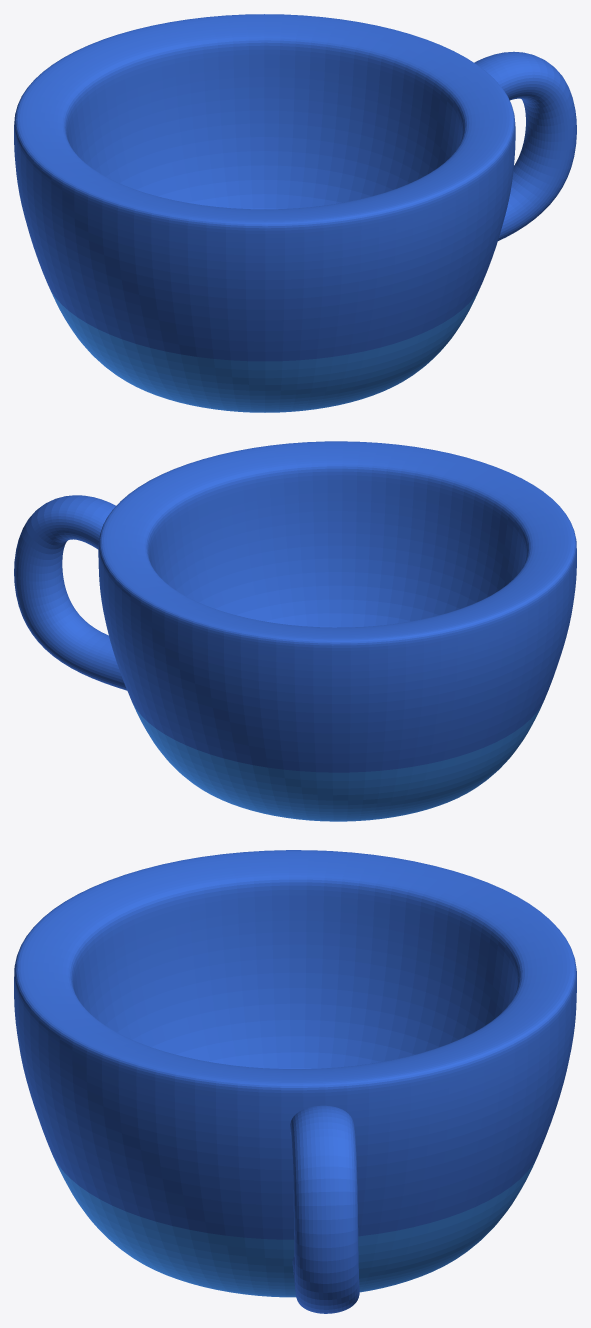
File: cup.fbx
The picture shows the model from 3 angles, top to bottom: view 1: azimuth 30°, elevation 25°; view 2: azimuth 150°, elevation 25°; view 3: azimuth 270°, elevation 25°; orthographic projection. The views are drawn at different scales.
Parts seen in each view (by area): view 1: cup; view 2: cup; view 3: cup.
Boxes of the visible parts, x1,y1,x2,y2 form: cup: (14,14,576,412); cup: (14,441,576,821); cup: (14,850,576,1313).
Bounding box in the file's own units: 0.8023 × 0.3578 × 0.6485.
